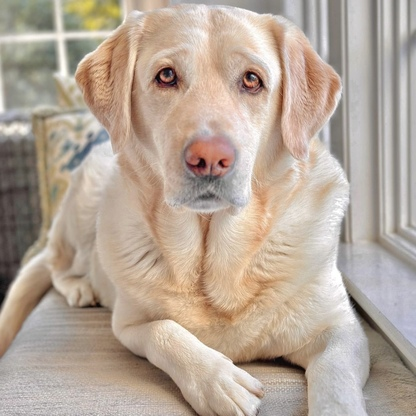labrado: (1, 1, 374, 416)
